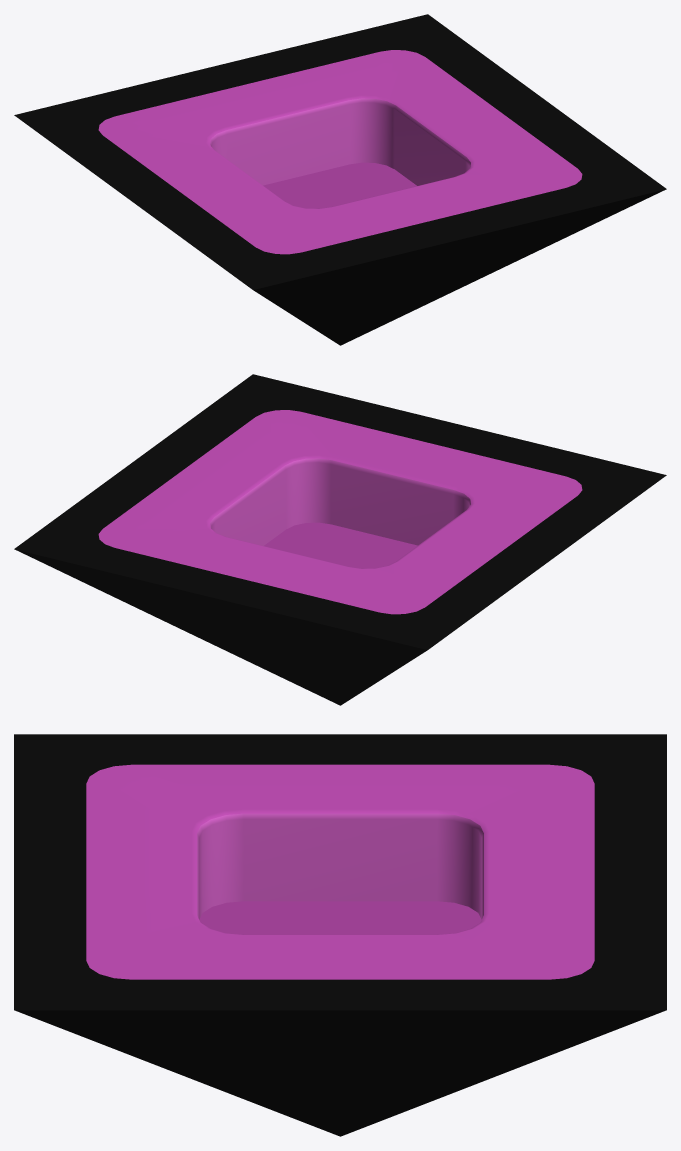
File: Cell_Purple_V2.fbx
The picture shows the model from 3 angles, top to bottom: view 1: azimuth 30°, elevation 25°; view 2: azimuth 150°, elevation 25°; view 3: azimuth 270°, elevation 25°; orthographic projection. The views are drawn at different scales.
Visible parts, largest first — view 1: Cell_Purple_v2; view 2: Cell_Purple_v2; view 3: Cell_Purple_v2.
Part boxes in pixels (x1,y1,x2,y2): Cell_Purple_v2: [14, 14, 666, 345]; Cell_Purple_v2: [14, 374, 666, 705]; Cell_Purple_v2: [14, 734, 666, 1136].
Bounding box in the file's own units: 112 × 50.06 × 112.
